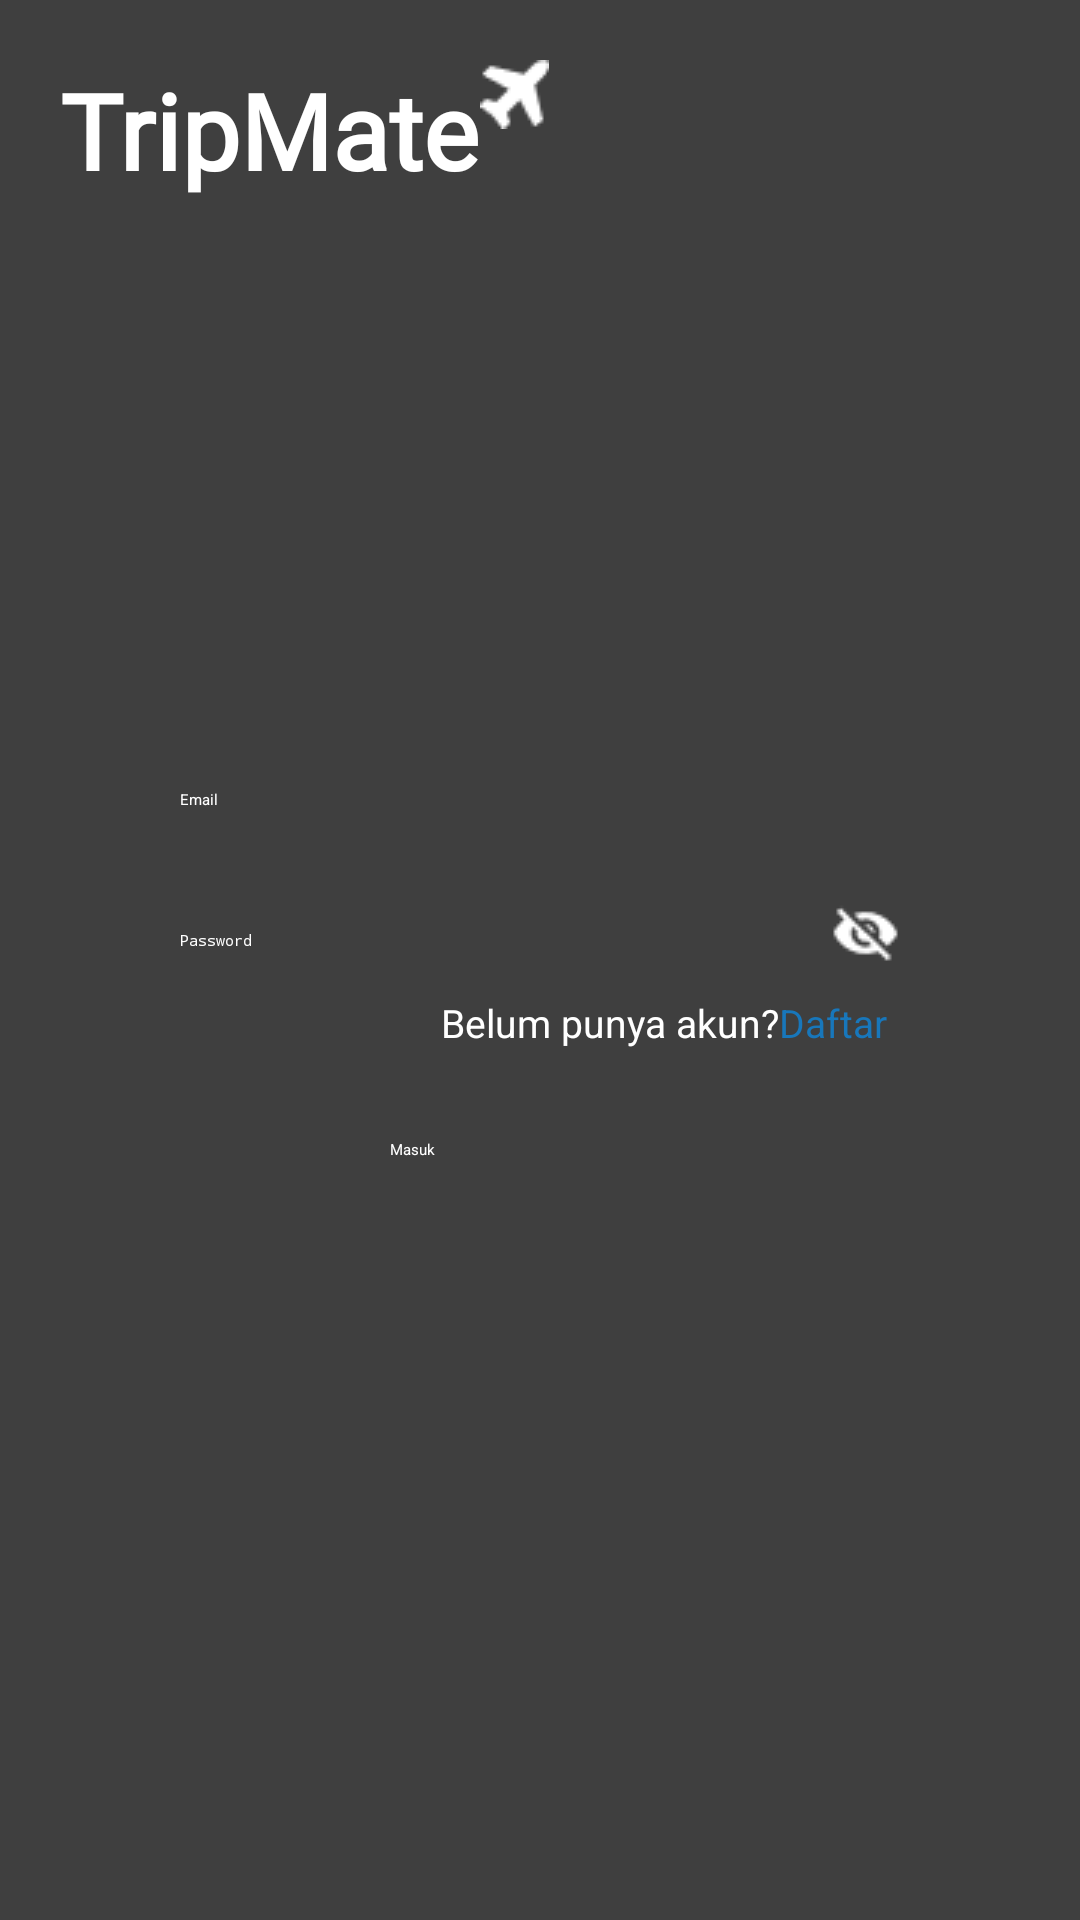

Icon bounding boxes for this 1080w x 1920h phone screenshot, format (x1, y1, x2, y2):
plane: (480, 60, 549, 129)
